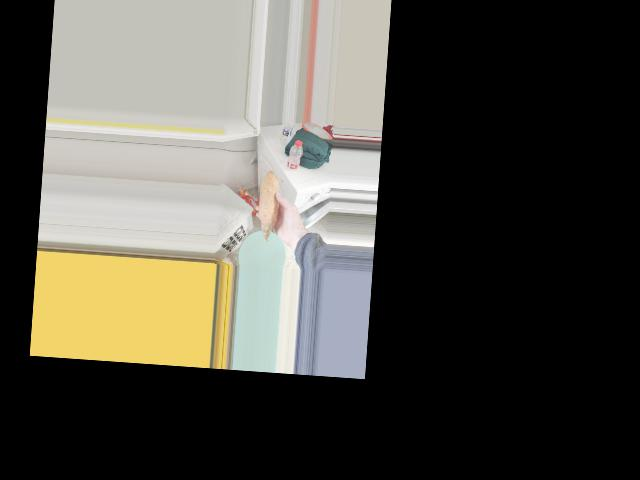sweet_potato: (260, 179, 279, 232)
